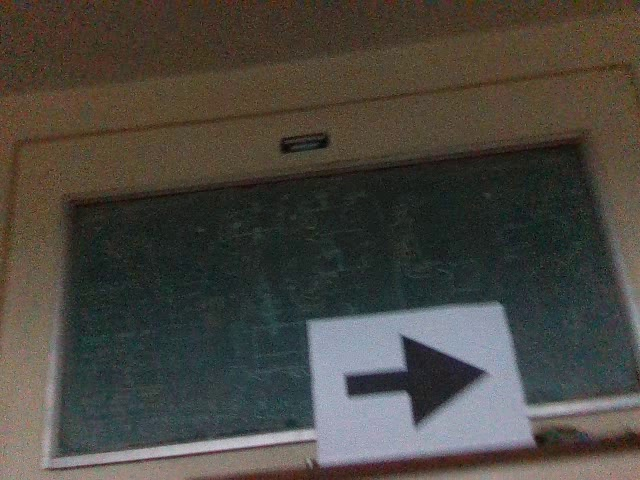Right: (337, 327, 494, 435)
